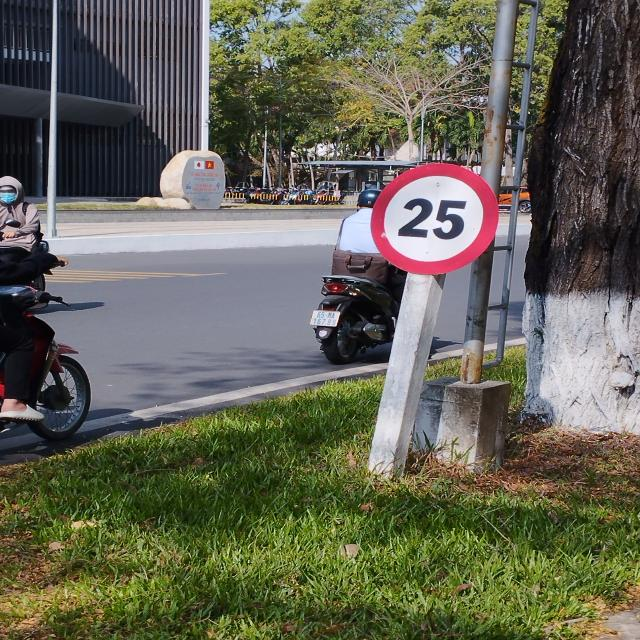Tre_Em: (370, 163, 500, 276)
